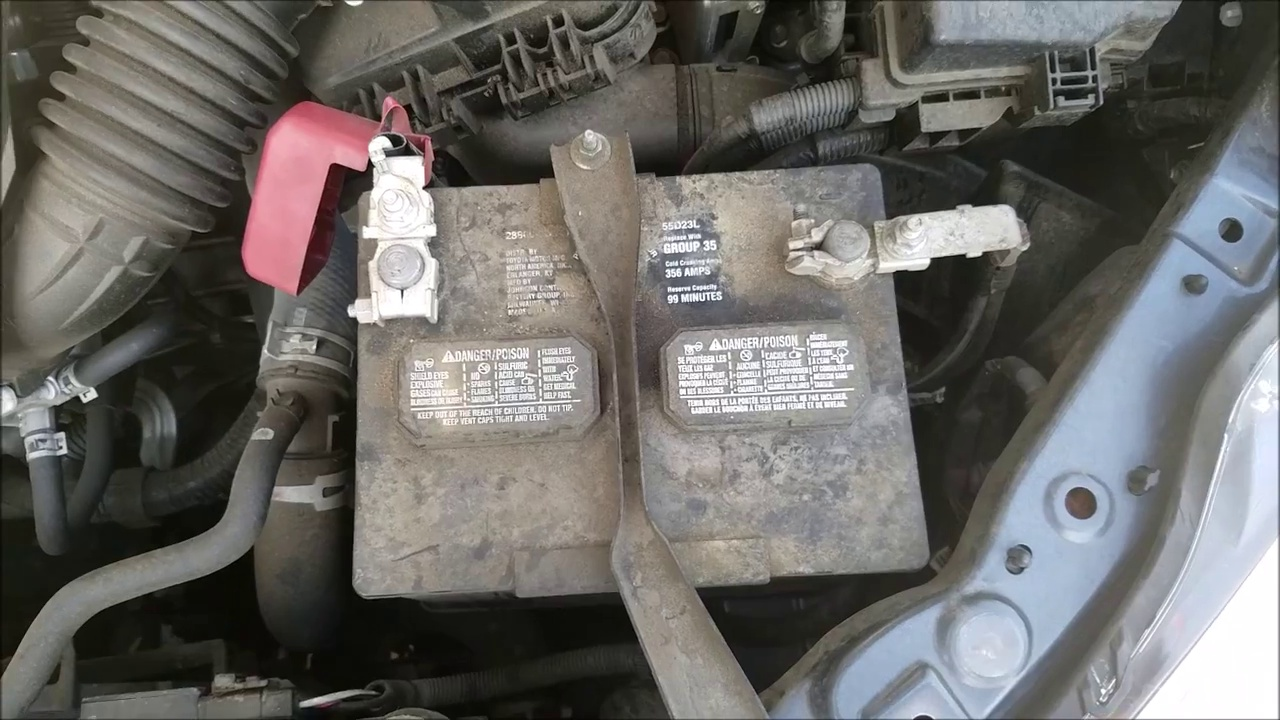battery: (326, 138, 934, 575)
neg_connected: (774, 188, 954, 298)
pos_connected: (240, 98, 479, 340)
